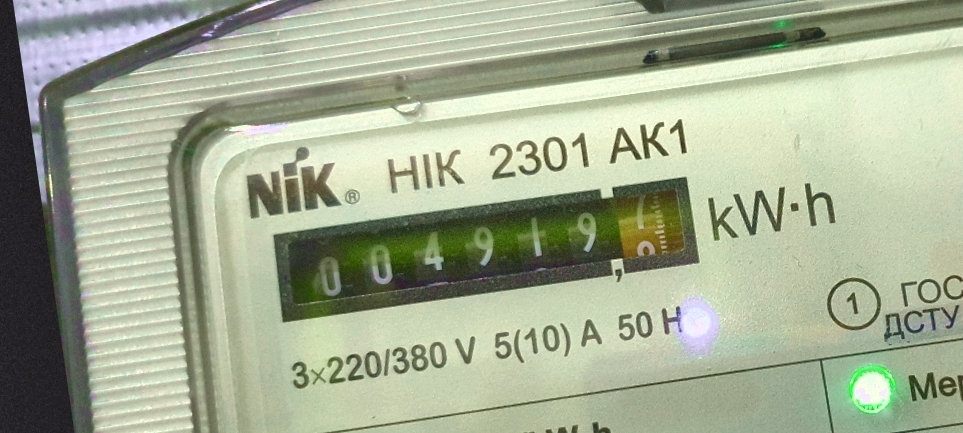0: (364, 239, 396, 287), (314, 251, 344, 298)
1: (524, 212, 545, 259)
4: (415, 227, 445, 273)
7: (623, 190, 651, 232)
9: (571, 207, 601, 256), (469, 222, 498, 269)
screen: (256, 159, 718, 341)
